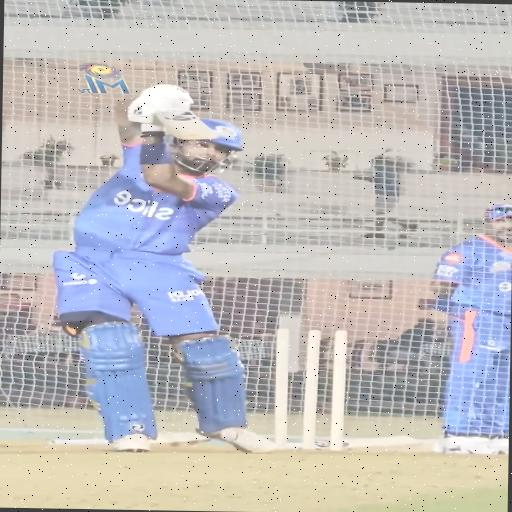Cricket bat: (160, 111, 218, 140)
